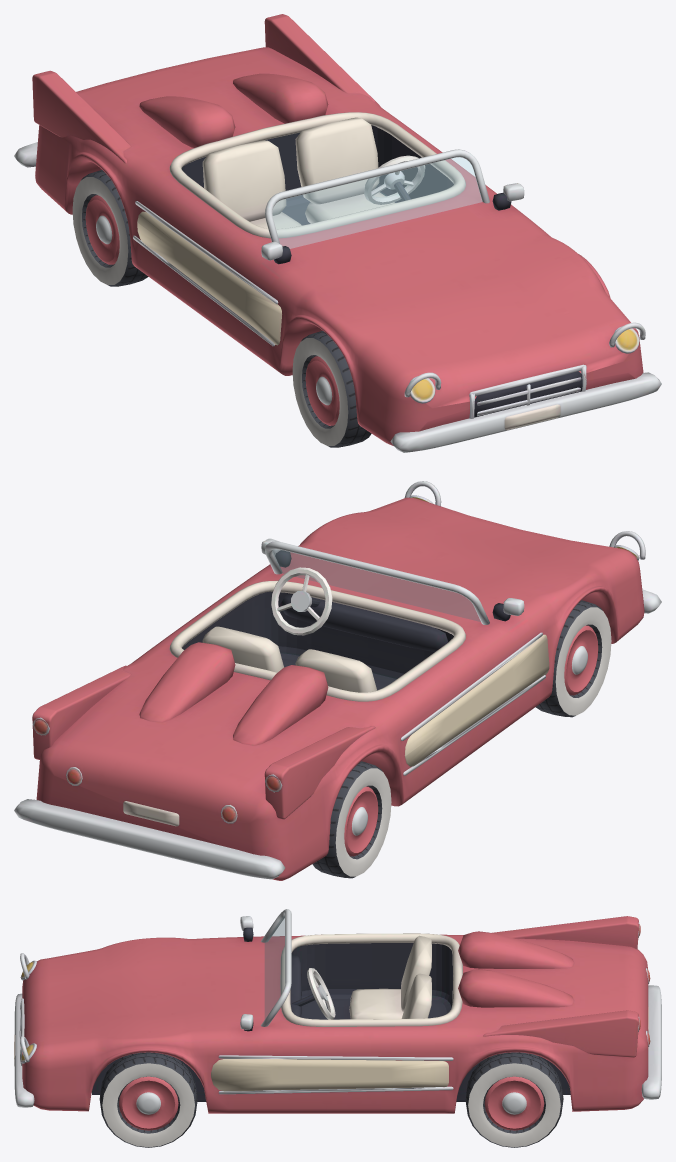
The model's file is 1950s-roadster.glb.
3 renders of one model, top to bottom at view 1: azimuth 30°, elevation 25°; view 2: azimuth 150°, elevation 25°; view 3: azimuth 270°, elevation 25°, orthographic. The views are drawn at different scales.
Visible parts, largest first — view 1: 1950s-roadster_body, 1950s-roadster_windows, 1950s-roadster_wheel_fr, 1950s-roadster_wheel_rr; view 2: 1950s-roadster_body, 1950s-roadster_wheel_rr, 1950s-roadster_wheel_fr, 1950s-roadster_windows; view 3: 1950s-roadster_body, 1950s-roadster_wheel_rl, 1950s-roadster_wheel_fl, 1950s-roadster_windows.
Part boxes in pixels (bbox=[...]): 1950s-roadster_body: bbox=[14, 14, 661, 452]; 1950s-roadster_windows: bbox=[272, 157, 482, 248]; 1950s-roadster_wheel_fr: bbox=[292, 331, 371, 447]; 1950s-roadster_wheel_rr: bbox=[72, 170, 148, 286]; 1950s-roadster_body: bbox=[14, 481, 661, 880]; 1950s-roadster_wheel_rr: bbox=[312, 761, 391, 878]; 1950s-roadster_wheel_fr: bbox=[535, 600, 611, 717]; 1950s-roadster_windows: bbox=[272, 549, 480, 621]; 1950s-roadster_body: bbox=[14, 909, 661, 1113]; 1950s-roadster_wheel_rl: bbox=[465, 1052, 563, 1147]; 1950s-roadster_wheel_fl: bbox=[99, 1052, 197, 1147]; 1950s-roadster_windows: bbox=[265, 916, 284, 1018].
Bounding box in the file's own units: 1.76 × 1.11 × 4.36.
22 materials, 5 textured.
